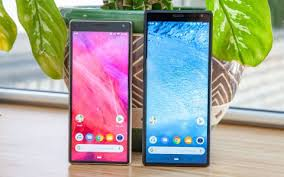sony: (64, 16, 136, 166), (144, 7, 211, 167)
